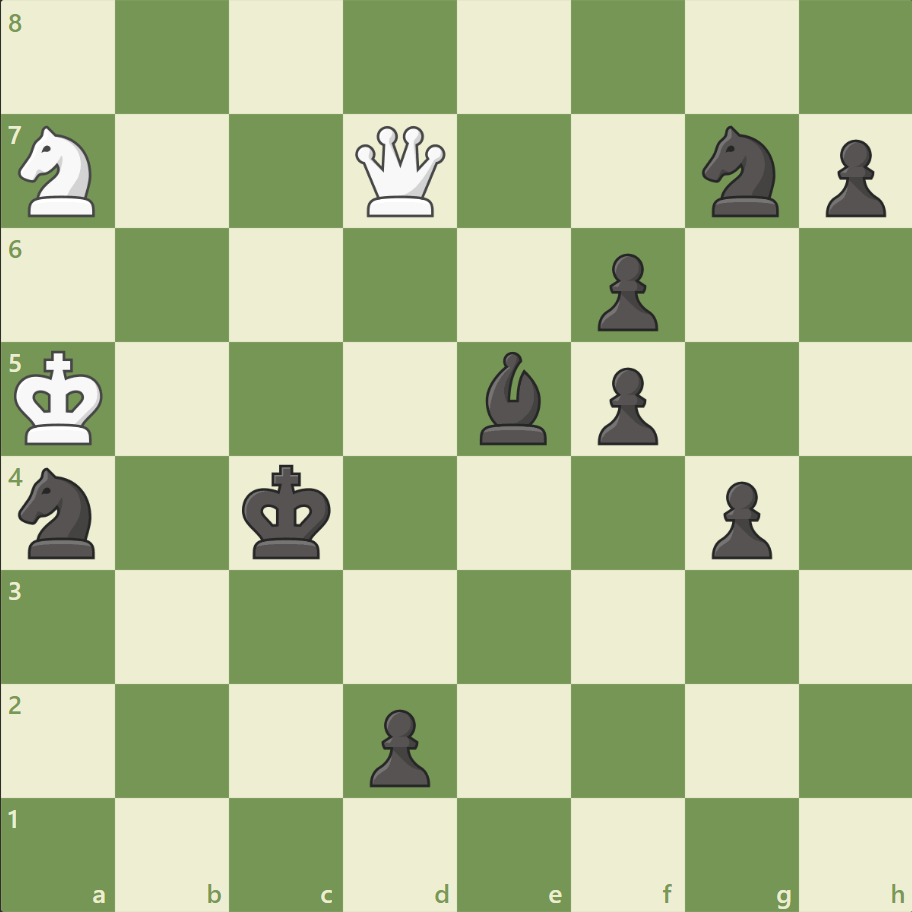K: (11, 344, 111, 452)
N: (11, 121, 108, 223)
Q: (351, 122, 450, 222)
b: (471, 347, 555, 449)
k: (238, 458, 338, 566)
n: (11, 461, 108, 564), (692, 121, 789, 223)
p: (701, 473, 776, 564), (815, 132, 889, 223), (588, 246, 662, 337), (588, 359, 662, 450), (361, 700, 435, 791)
